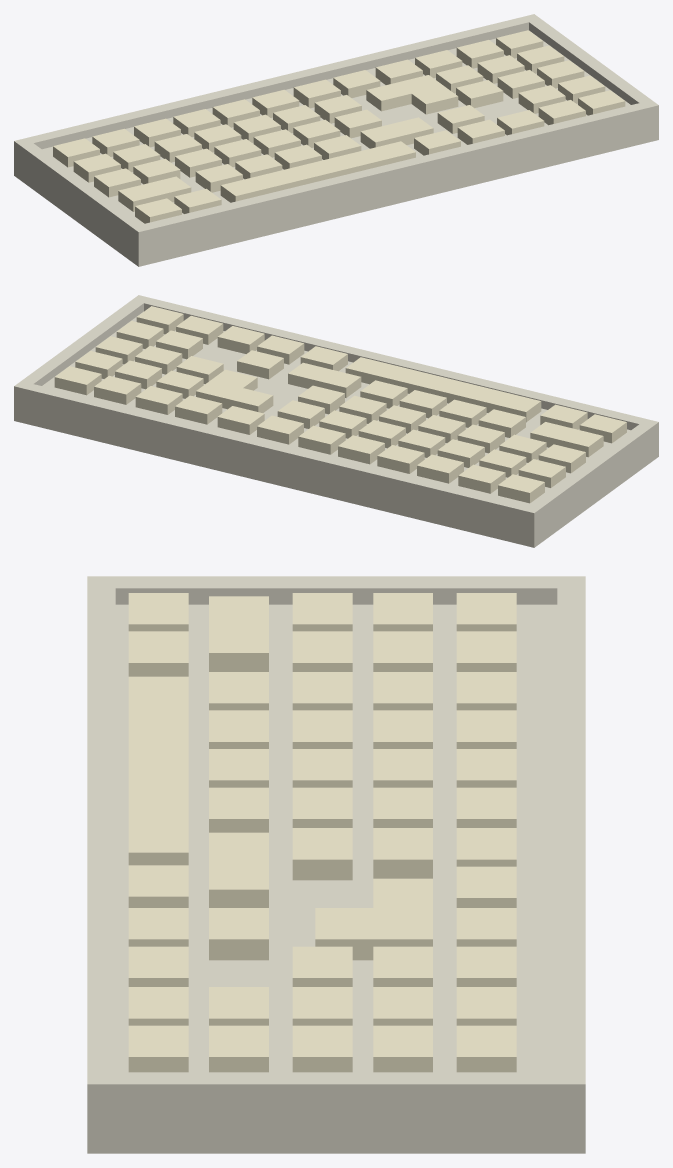
File: keyboard.fbx
3 renders of one model, top to bottom at view 1: azimuth 30°, elevation 25°; view 2: azimuth 150°, elevation 25°; view 3: azimuth 270°, elevation 25°, orthographic. The views are drawn at different scales.
Parts seen in each view (by area): view 1: Cube_3; view 2: Cube_3; view 3: Cube_3.
Part boxes in pixels (bbox=[...]): Cube_3: bbox=[14, 14, 658, 266]; Cube_3: bbox=[14, 295, 658, 547]; Cube_3: bbox=[87, 576, 585, 1153].
Size of the model in its own units: 17.31 by 1.17 by 7.18.
